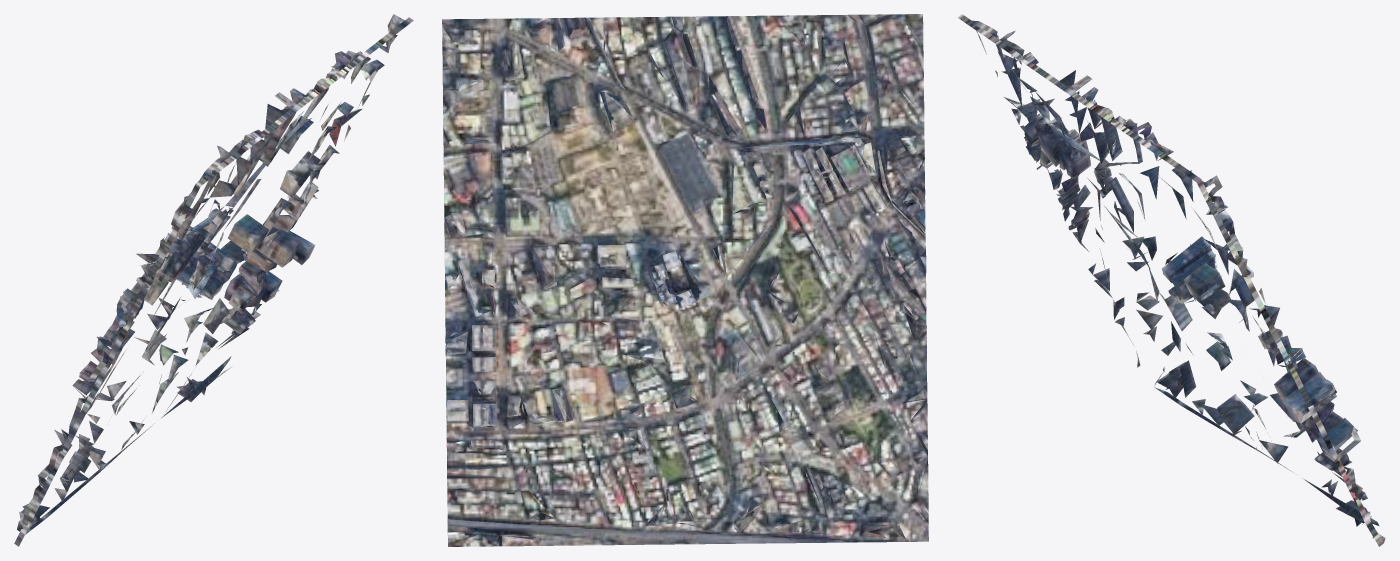
The picture shows the model from 3 angles, left to right: view 1: azimuth 30°, elevation 25°; view 2: azimuth 150°, elevation 25°; view 3: azimuth 270°, elevation 25°; orthographic projection. The views are drawn at different scales.
Size of the model in its own units: 1222 by 1133 by 1038.
2 materials, 2 textured.
